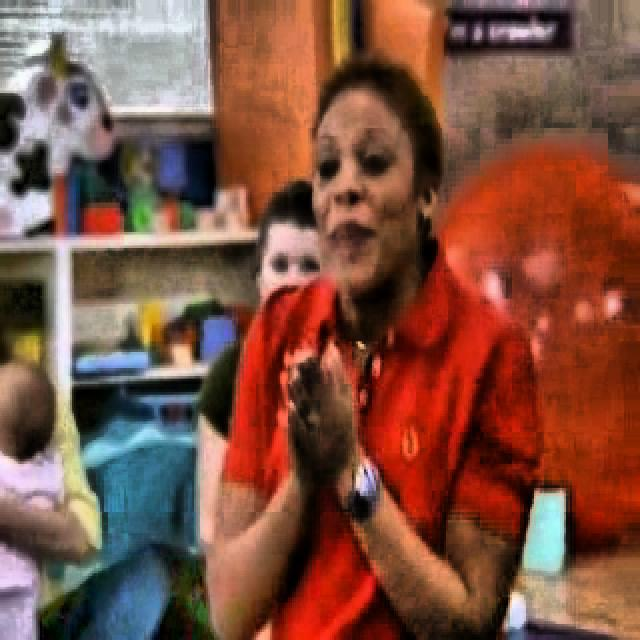F: (193, 55, 537, 640)
